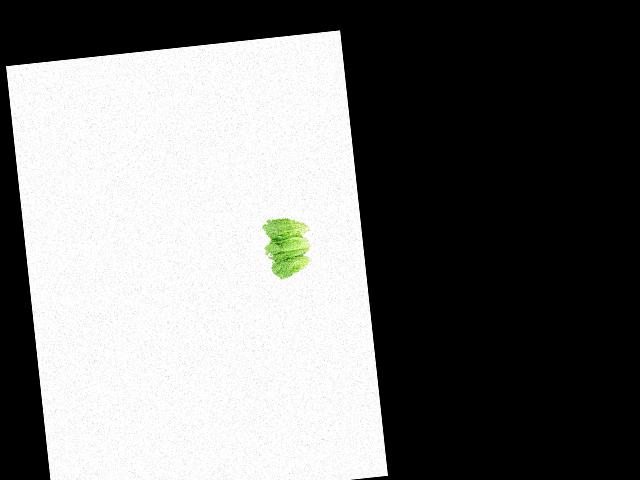lettuce: (268, 250, 323, 280)
